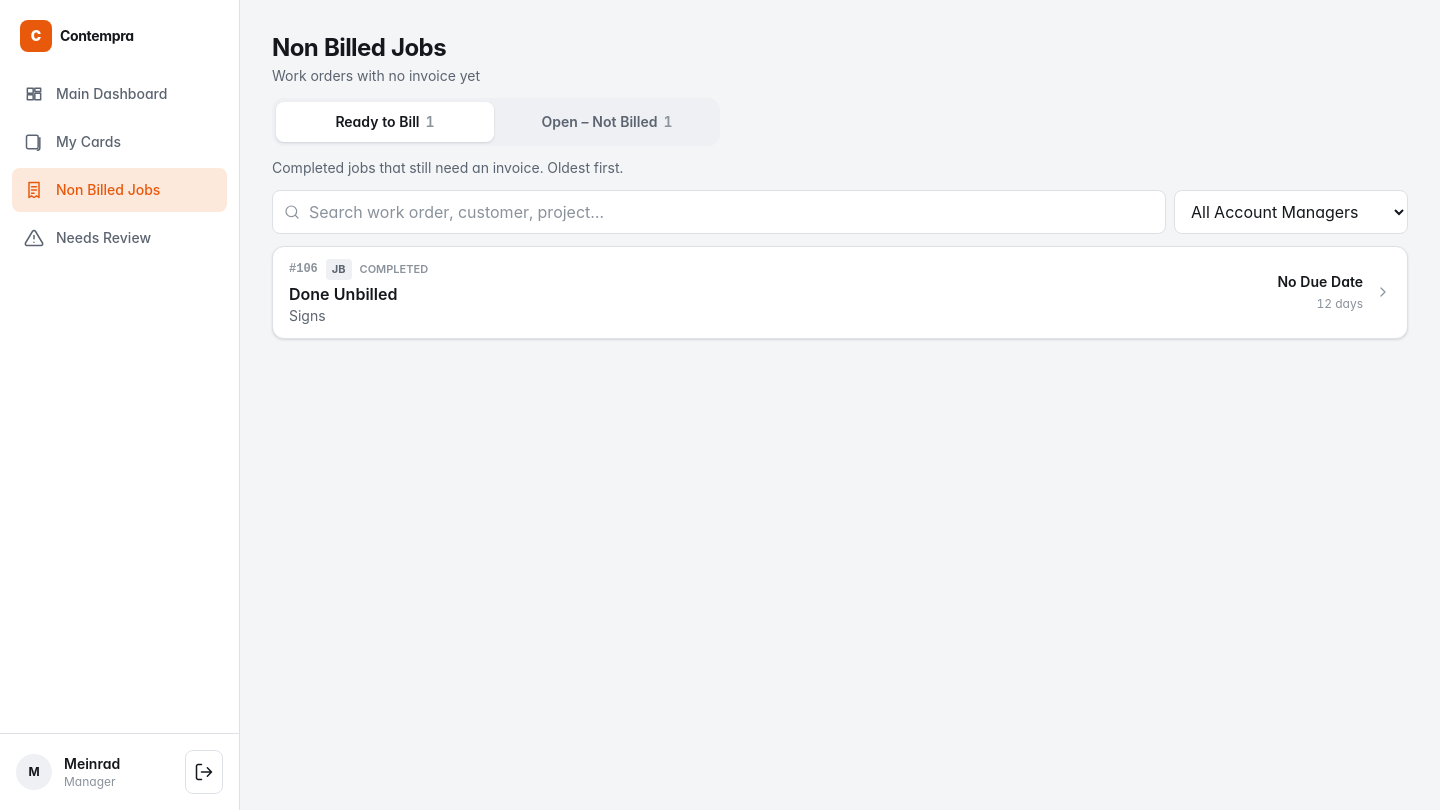
Test: Non Billed Jobs › requests ready first, then open when switching tabs
The width and height of the screenshot is (1440, 810).
Check: the text "Done Unbilled" is shown, box [289, 284, 397, 304]
Check: the text "12 days" is shown, box [1316, 296, 1363, 312]
Click the tab "Open – Not Billed 1".
click(607, 122)  # box [498, 102, 716, 142]
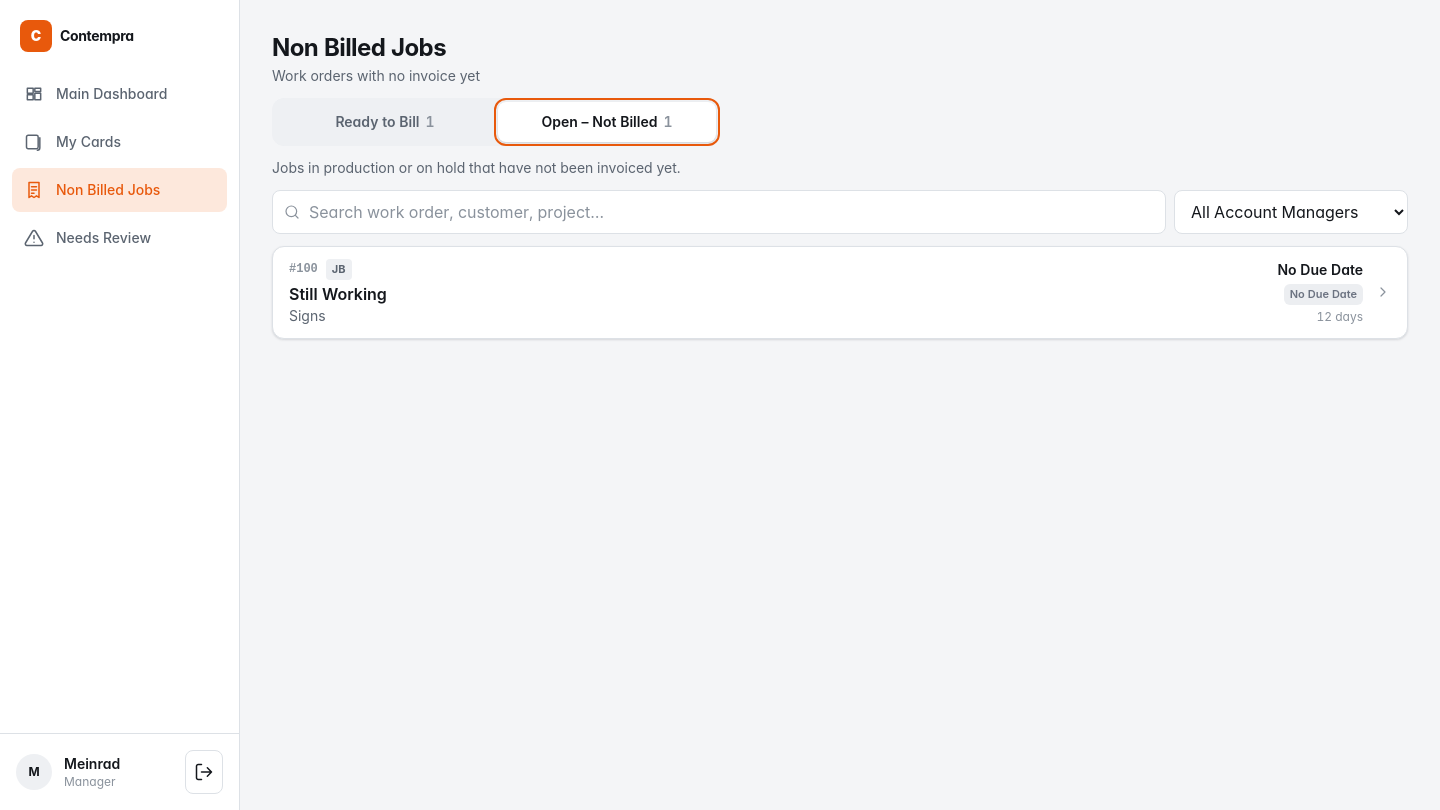
Check: the text "Still Working" is shown, box [289, 284, 387, 304]
